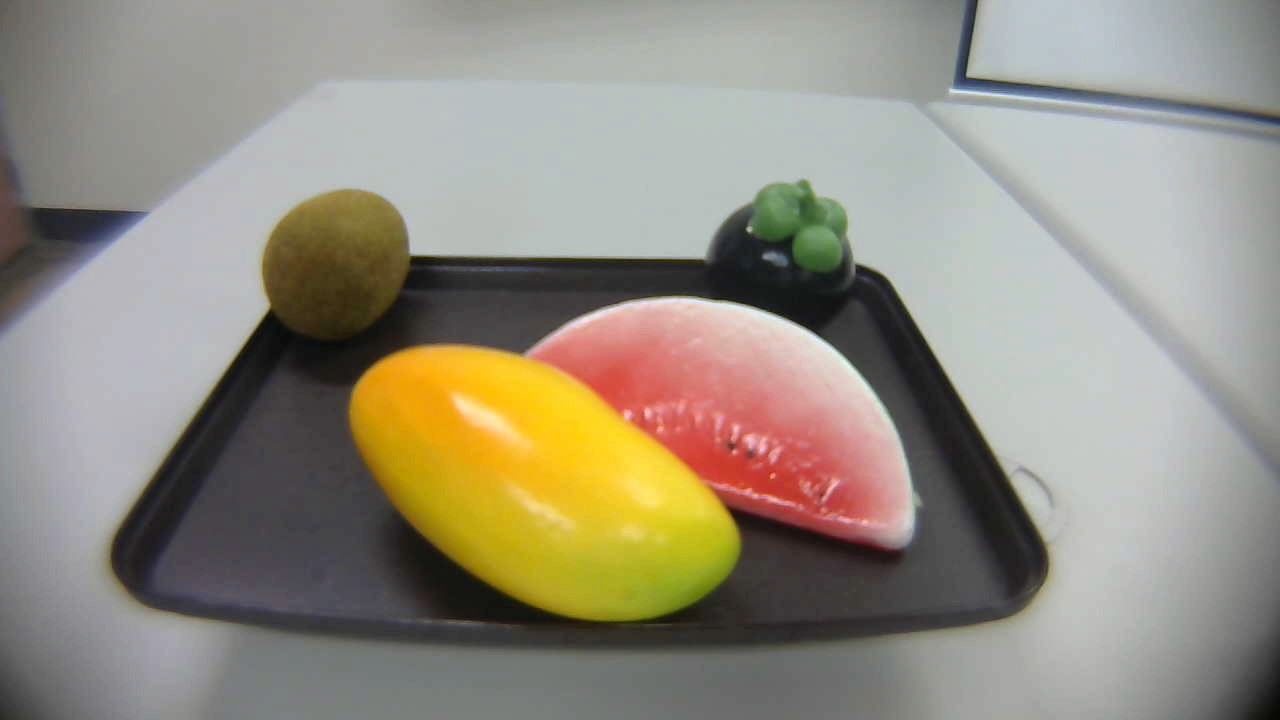kiwi fruit: (261, 186, 410, 340)
mangosteen: (702, 179, 863, 329)
water melon: (528, 284, 932, 571)
yellow mango: (347, 338, 753, 659)
